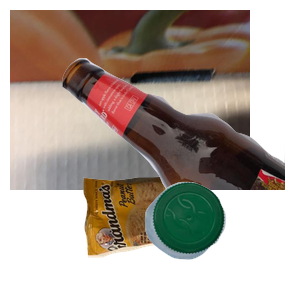cardboard: (10, 10, 250, 190)
glass: (60, 56, 300, 236)
plastic: (142, 179, 300, 300)
trash: (81, 168, 261, 300)
